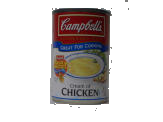grozi_110: (49, 0, 126, 105)
